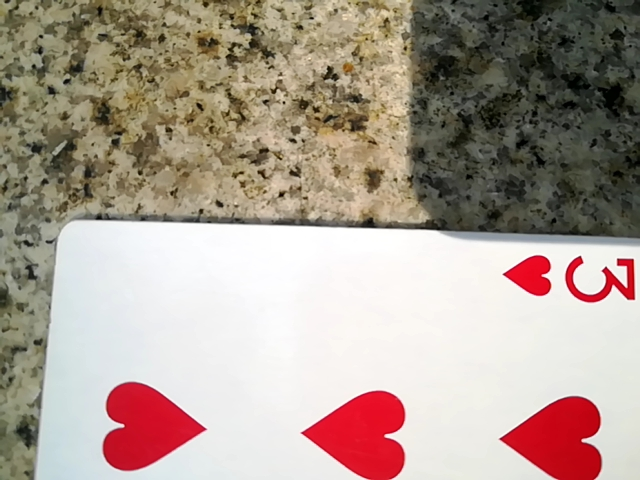hx 3: (35, 214, 634, 480)
